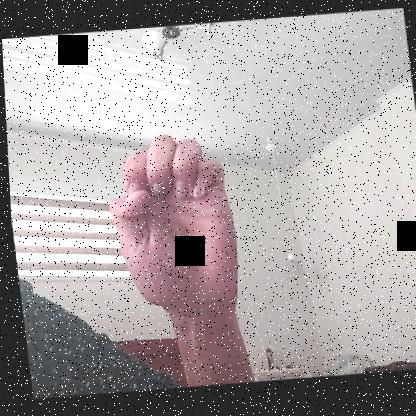E: (99, 129, 242, 316)
